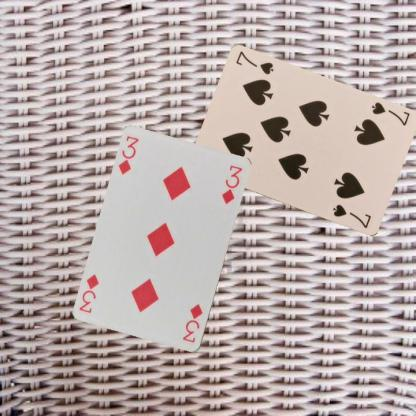3d: (180, 302, 205, 344), (116, 134, 140, 176)
7s: (368, 99, 411, 127)
